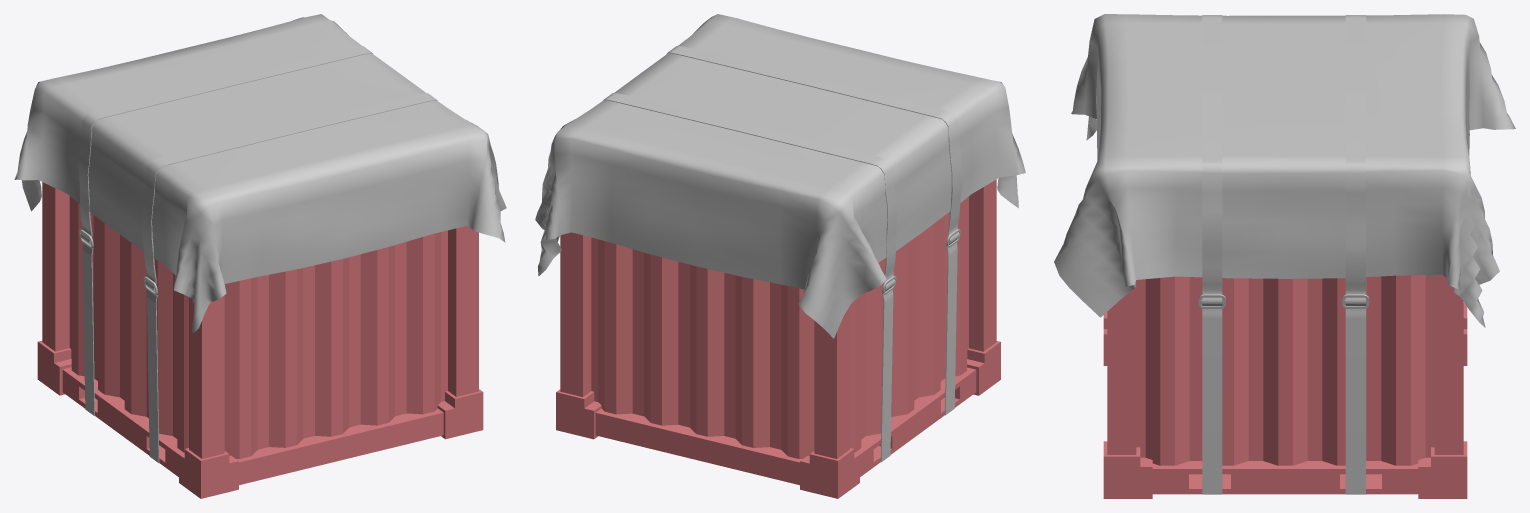
The model's file is SWAT_Cloth_covered_crate_001.gltf.
3 renders of one model, left to right at view 1: azimuth 30°, elevation 25°; view 2: azimuth 150°, elevation 25°; view 3: azimuth 270°, elevation 25°, orthographic. The views are drawn at different scales.
Parts seen in each view (by area): view 1: SWAT_Cloth_covered_crate_box, SWAT_Cloth_covered_crate_cloth, SWAT_Cloth_covered_crate_belt; view 2: SWAT_Cloth_covered_crate_cloth, SWAT_Cloth_covered_crate_box, SWAT_Cloth_covered_crate_belt; view 3: SWAT_Cloth_covered_crate_cloth, SWAT_Cloth_covered_crate_box, SWAT_Cloth_covered_crate_belt.
Part boxes in pixels (x1=…): SWAT_Cloth_covered_crate_box: x1=37, y1=182, x2=483, y2=498; SWAT_Cloth_covered_crate_cloth: x1=14, y1=14, x2=506, y2=333; SWAT_Cloth_covered_crate_belt: x1=78, y1=46, x2=437, y2=462; SWAT_Cloth_covered_crate_cloth: x1=535, y1=14, x2=1025, y2=338; SWAT_Cloth_covered_crate_box: x1=556, y1=179, x2=1000, y2=498; SWAT_Cloth_covered_crate_belt: x1=603, y1=46, x2=961, y2=462; SWAT_Cloth_covered_crate_cloth: x1=1054, y1=14, x2=1515, y2=327; SWAT_Cloth_covered_crate_box: x1=1103, y1=274, x2=1467, y2=498; SWAT_Cloth_covered_crate_belt: x1=1202, y1=15, x2=1365, y2=494.
Size of the model in its own units: 1.24 by 1.01 by 1.27.
